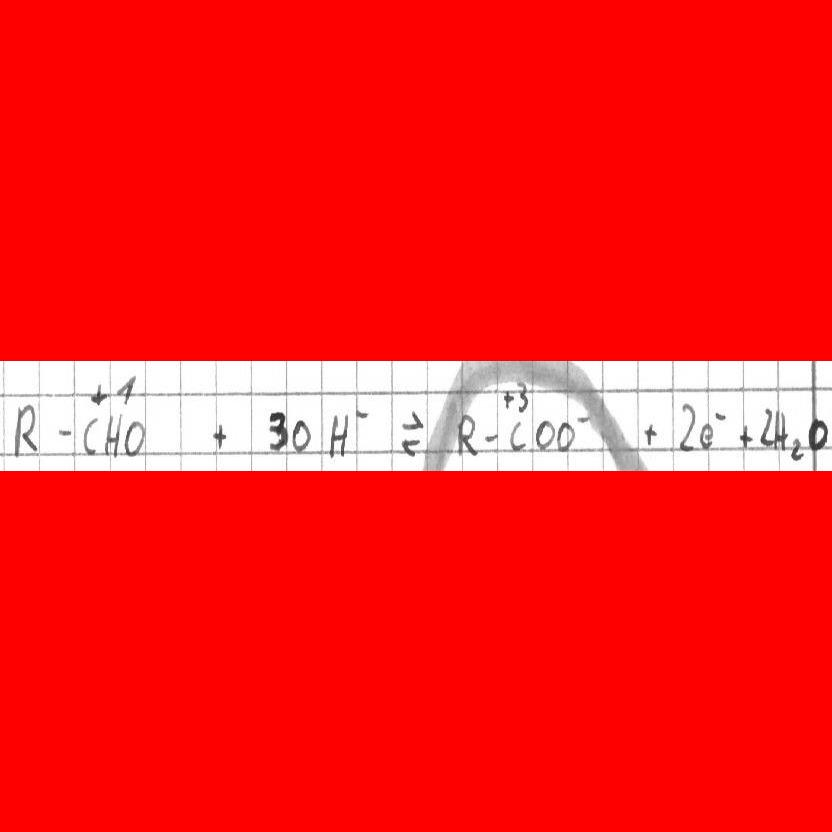Char: (398, 407, 426, 458), (13, 402, 38, 456), (328, 410, 350, 461), (265, 409, 289, 451), (457, 413, 479, 457), (122, 420, 144, 458), (677, 402, 694, 450), (104, 413, 121, 457), (807, 418, 828, 452), (772, 408, 788, 451), (758, 408, 774, 450), (535, 419, 555, 451), (293, 418, 311, 453), (83, 417, 100, 454), (116, 375, 136, 405), (509, 421, 528, 451), (557, 421, 575, 452), (209, 422, 228, 449), (515, 379, 529, 415), (641, 422, 660, 446), (88, 383, 107, 407), (788, 438, 805, 462), (698, 423, 713, 449), (737, 425, 753, 449), (57, 424, 75, 443), (484, 429, 500, 449), (354, 404, 370, 424), (502, 390, 514, 408), (713, 408, 727, 422), (576, 413, 591, 426)
